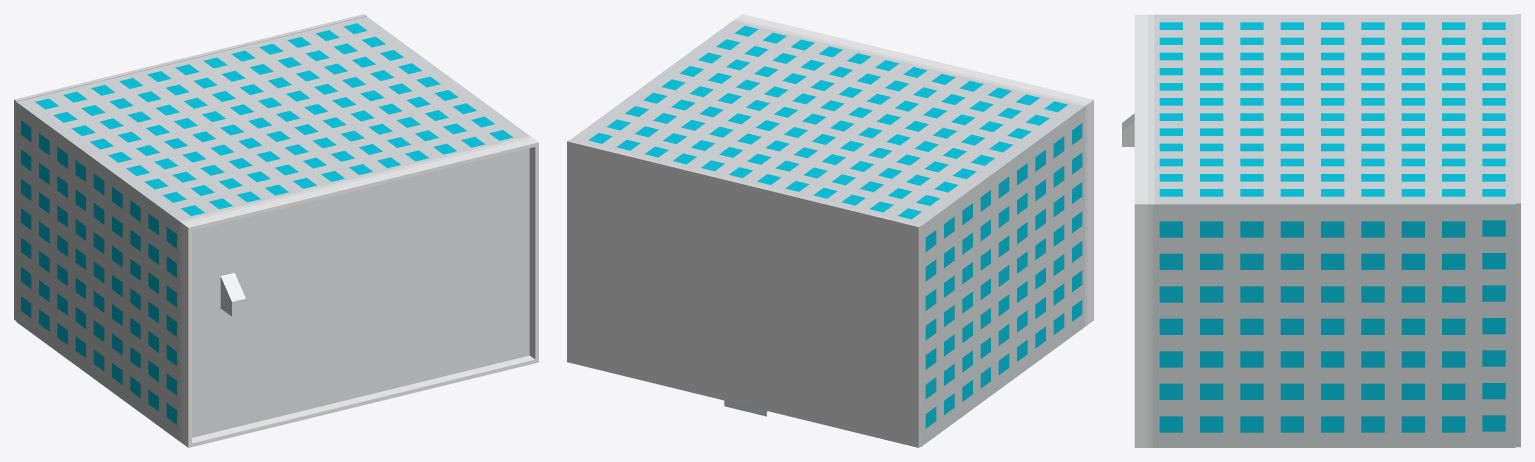
File: building.gltf
3 views of the same model, side by side, from view 1: azimuth 30°, elevation 25°; view 2: azimuth 150°, elevation 25°; view 3: azimuth 270°, elevation 25° (orthographic). The views are drawn at different scales.
Visible parts, largest first — view 1: group_0_14541540, group_0_12568524, group_0_40919, group_0_16448250, group_0_0; view 2: group_0_0, group_0_12568524, group_0_40919, group_0_16448250, group_0_14541540; view 3: group_0_12568524, group_0_40919, group_0_16448250, group_0_14541540, group_0_0.
Part boxes in pixels (box(x1,y1,x2,y2)): group_0_14541540: box(179, 136, 532, 442); group_0_12568524: box(16, 16, 529, 441); group_0_40919: box(21, 23, 513, 424); group_0_16448250: box(182, 138, 538, 447); group_0_0: box(14, 14, 366, 320); group_0_0: box(567, 139, 921, 447); group_0_12568524: box(570, 20, 1084, 446); group_0_40919: box(588, 26, 1082, 428); group_0_16448250: box(736, 14, 1093, 324); group_0_14541540: box(733, 18, 1087, 326); group_0_12568524: box(1152, 14, 1515, 447); group_0_40919: box(1159, 22, 1505, 432); group_0_16448250: box(1134, 14, 1147, 447); group_0_14541540: box(1122, 14, 1154, 447); group_0_0: box(1515, 14, 1520, 447).
Size of the model in its own units: 500 by 311 by 445.
